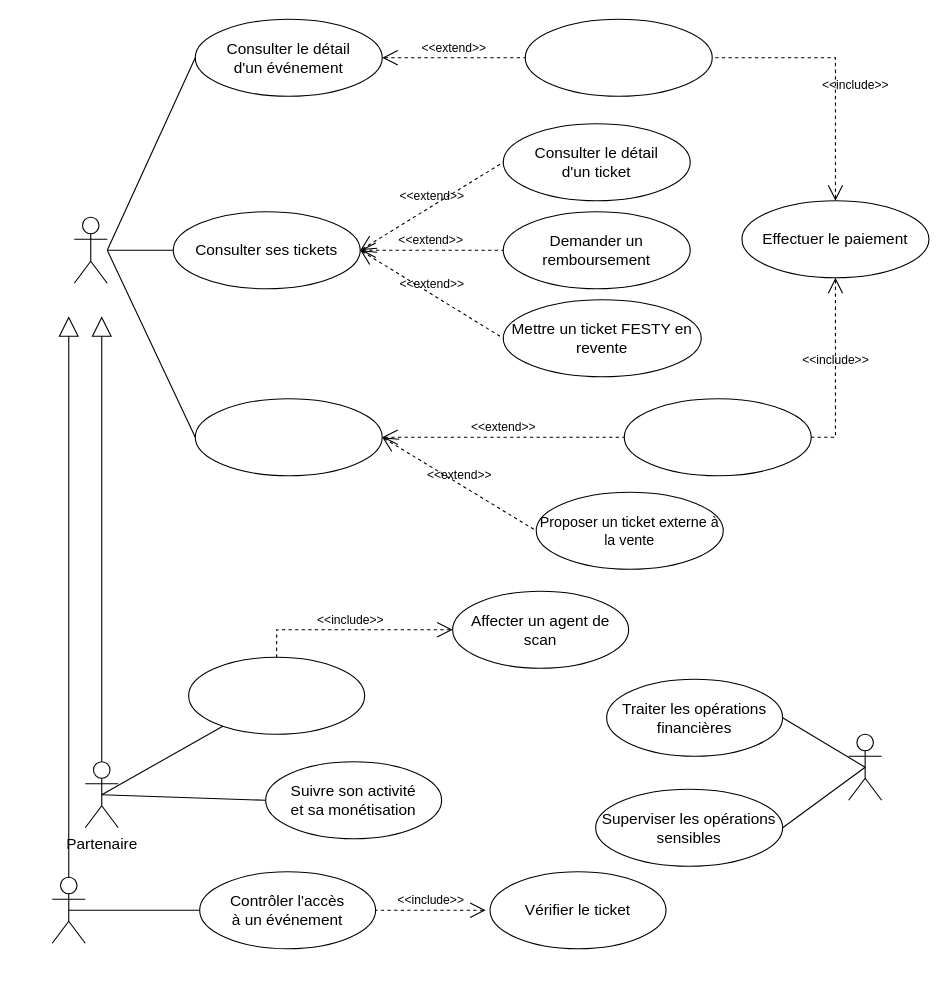
This 948x989 diagram has some shape labels left out. The box of each missing label's shape, as (x1, y1, x2, y2) in pixels:
Acheter un ticket en revente: (623, 398, 811, 476)
Administrateur: (848, 733, 882, 800)
Agent de scan: (51, 876, 85, 943)
Consulter la marketplace: (194, 398, 382, 476)
Gérer les sessions de scan: (188, 656, 365, 734)
Réserver et payer un billet: (524, 18, 712, 96)
Utilisateur: (73, 216, 107, 283)
